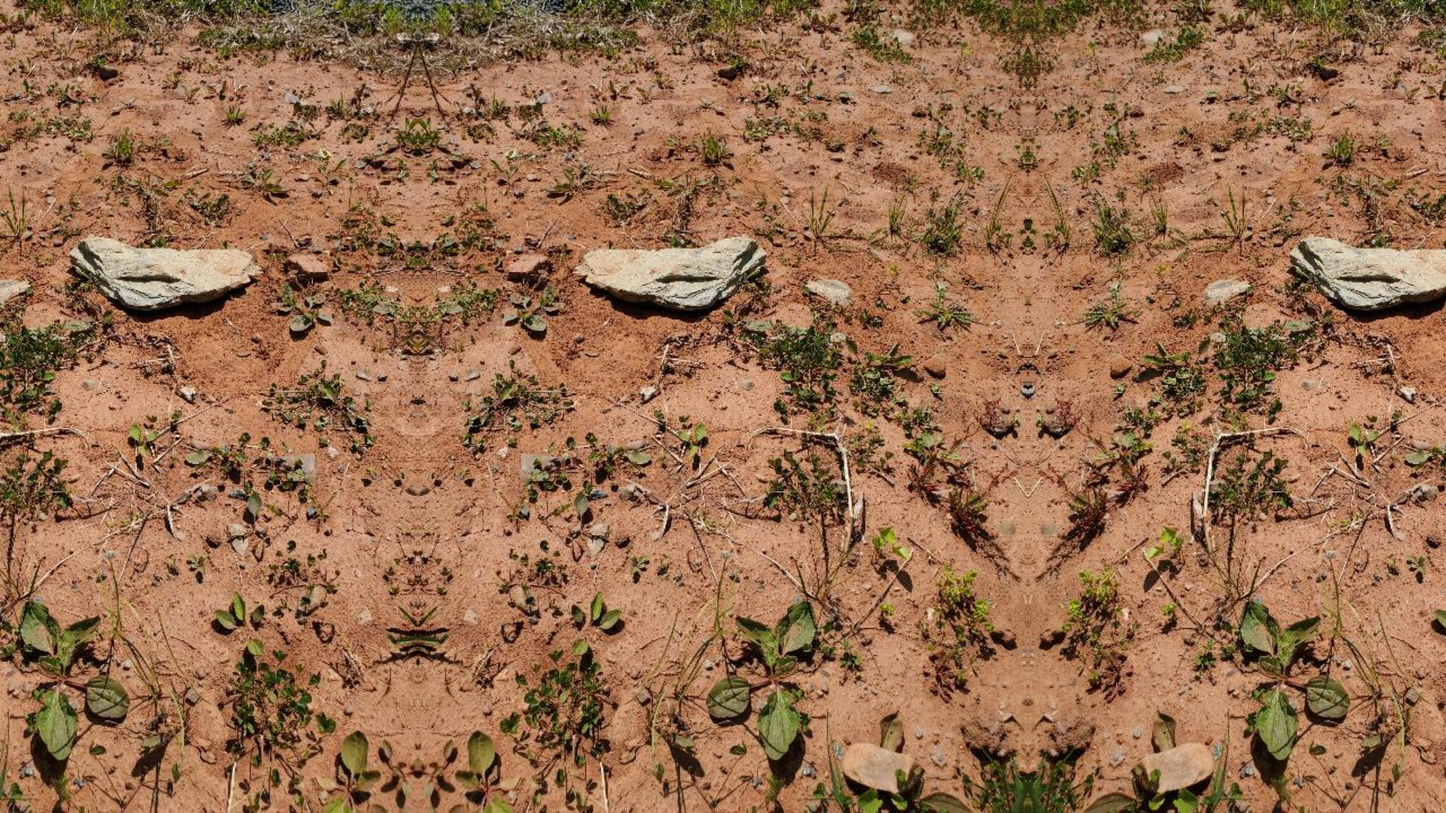rock: (575, 236, 765, 311), (70, 237, 261, 311), (1289, 237, 1445, 311), (842, 742, 915, 793), (1141, 742, 1214, 793), (804, 279, 851, 307), (1203, 279, 1251, 306), (286, 253, 329, 281), (506, 254, 550, 280), (0, 279, 31, 306), (923, 355, 946, 378), (1109, 356, 1133, 378)
